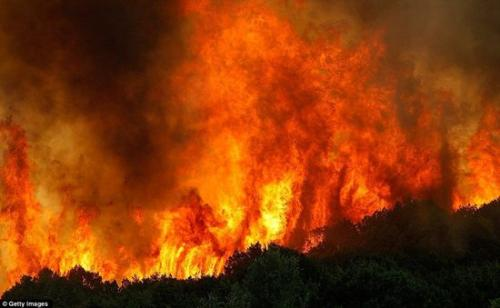fire: (25, 194, 213, 272), (315, 128, 424, 207), (229, 161, 306, 242), (443, 132, 496, 206)
